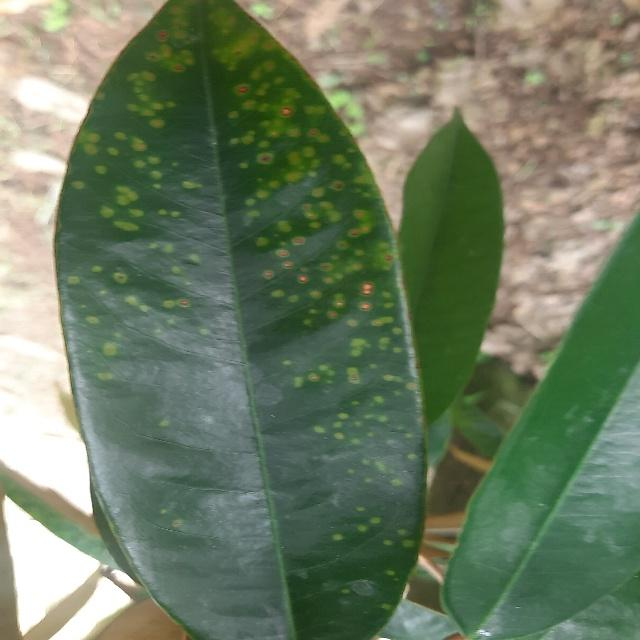Leaf Spot: (49, 0, 431, 640)
